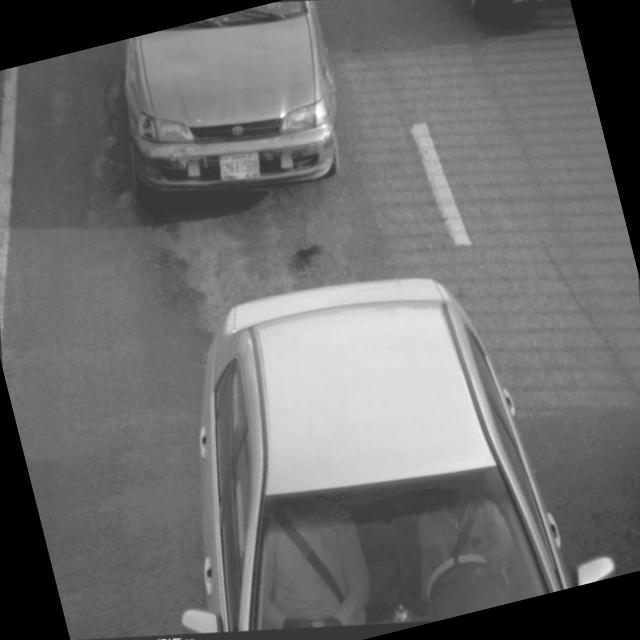person_with_seatbelt: (386, 464, 534, 625)
